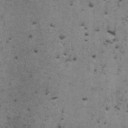oxide scale of temperature system: (14, 2, 119, 72), (13, 88, 66, 128), (104, 104, 122, 112), (82, 96, 88, 101)
